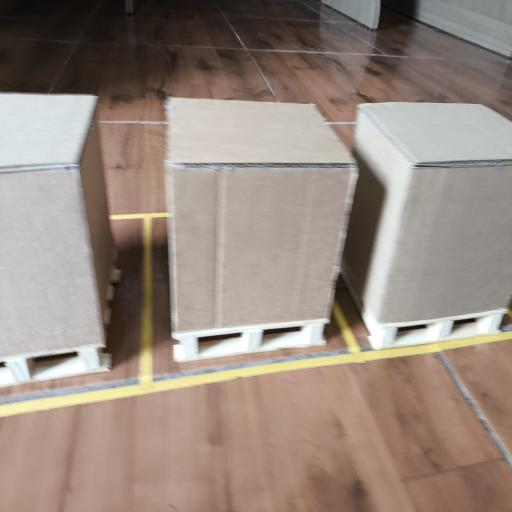pallet: (342, 274, 506, 349), (172, 319, 330, 362), (0, 345, 111, 386), (0, 346, 111, 386)
